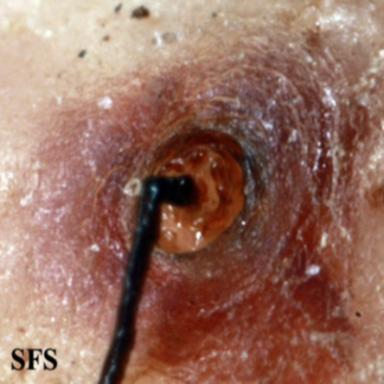Tungiasis: (16, 5, 384, 383)
